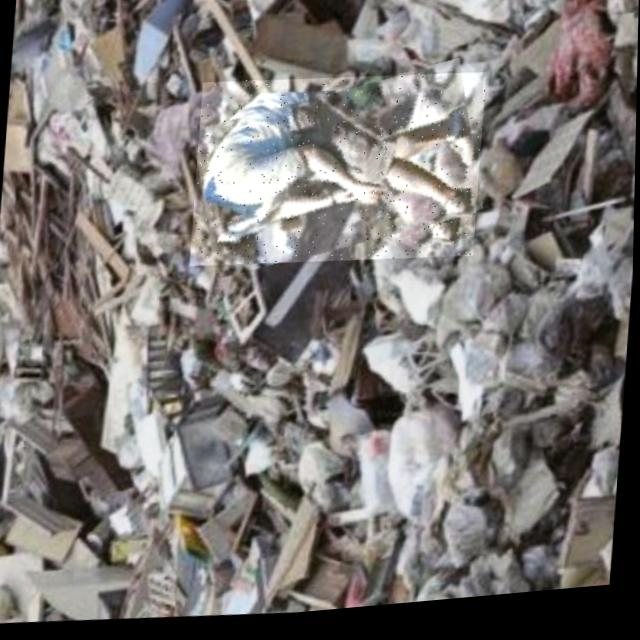Person in Rubble: (191, 64, 488, 283)
